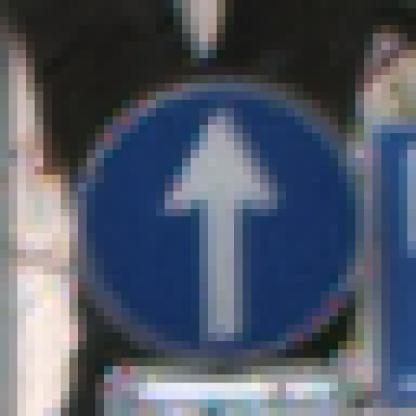AheadOnly: (53, 51, 374, 375)
